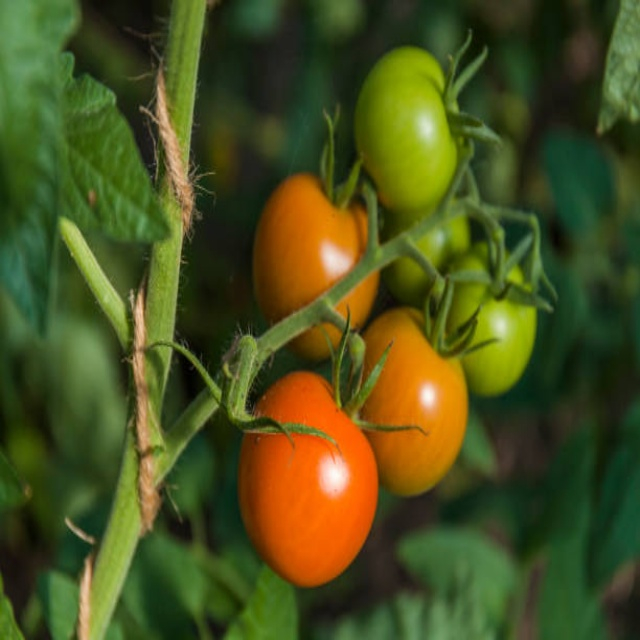tomato: (228, 377, 392, 592), (351, 303, 473, 496), (348, 45, 469, 211), (262, 180, 377, 344), (425, 254, 547, 400)
